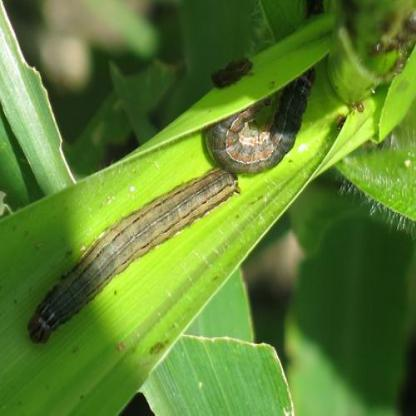armyworm: (11, 132, 257, 367), (204, 61, 318, 175)
